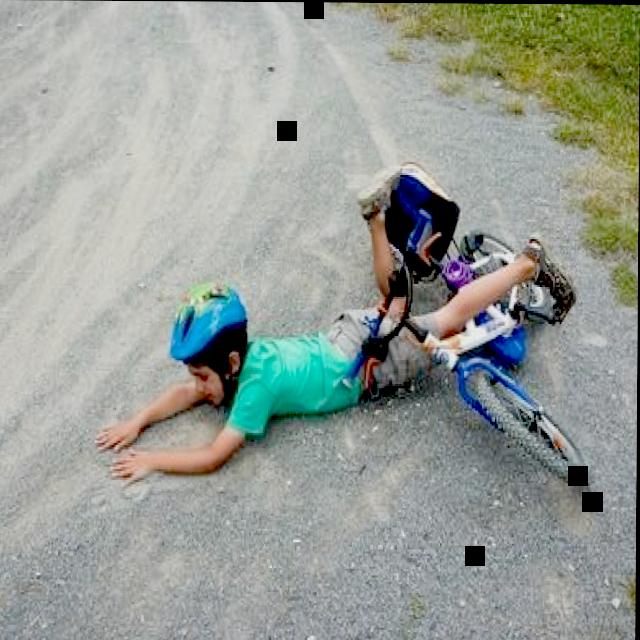Fall-Detected: (100, 140, 558, 495)
